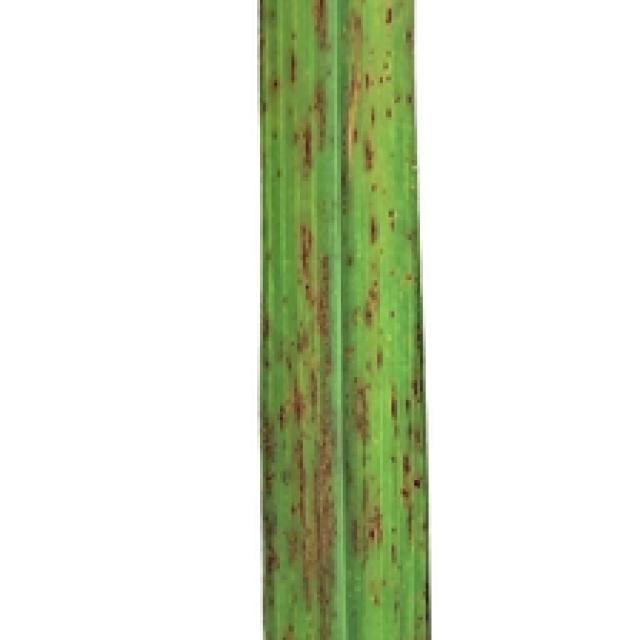Rice___Brown_Spot: (259, 1, 433, 637)
